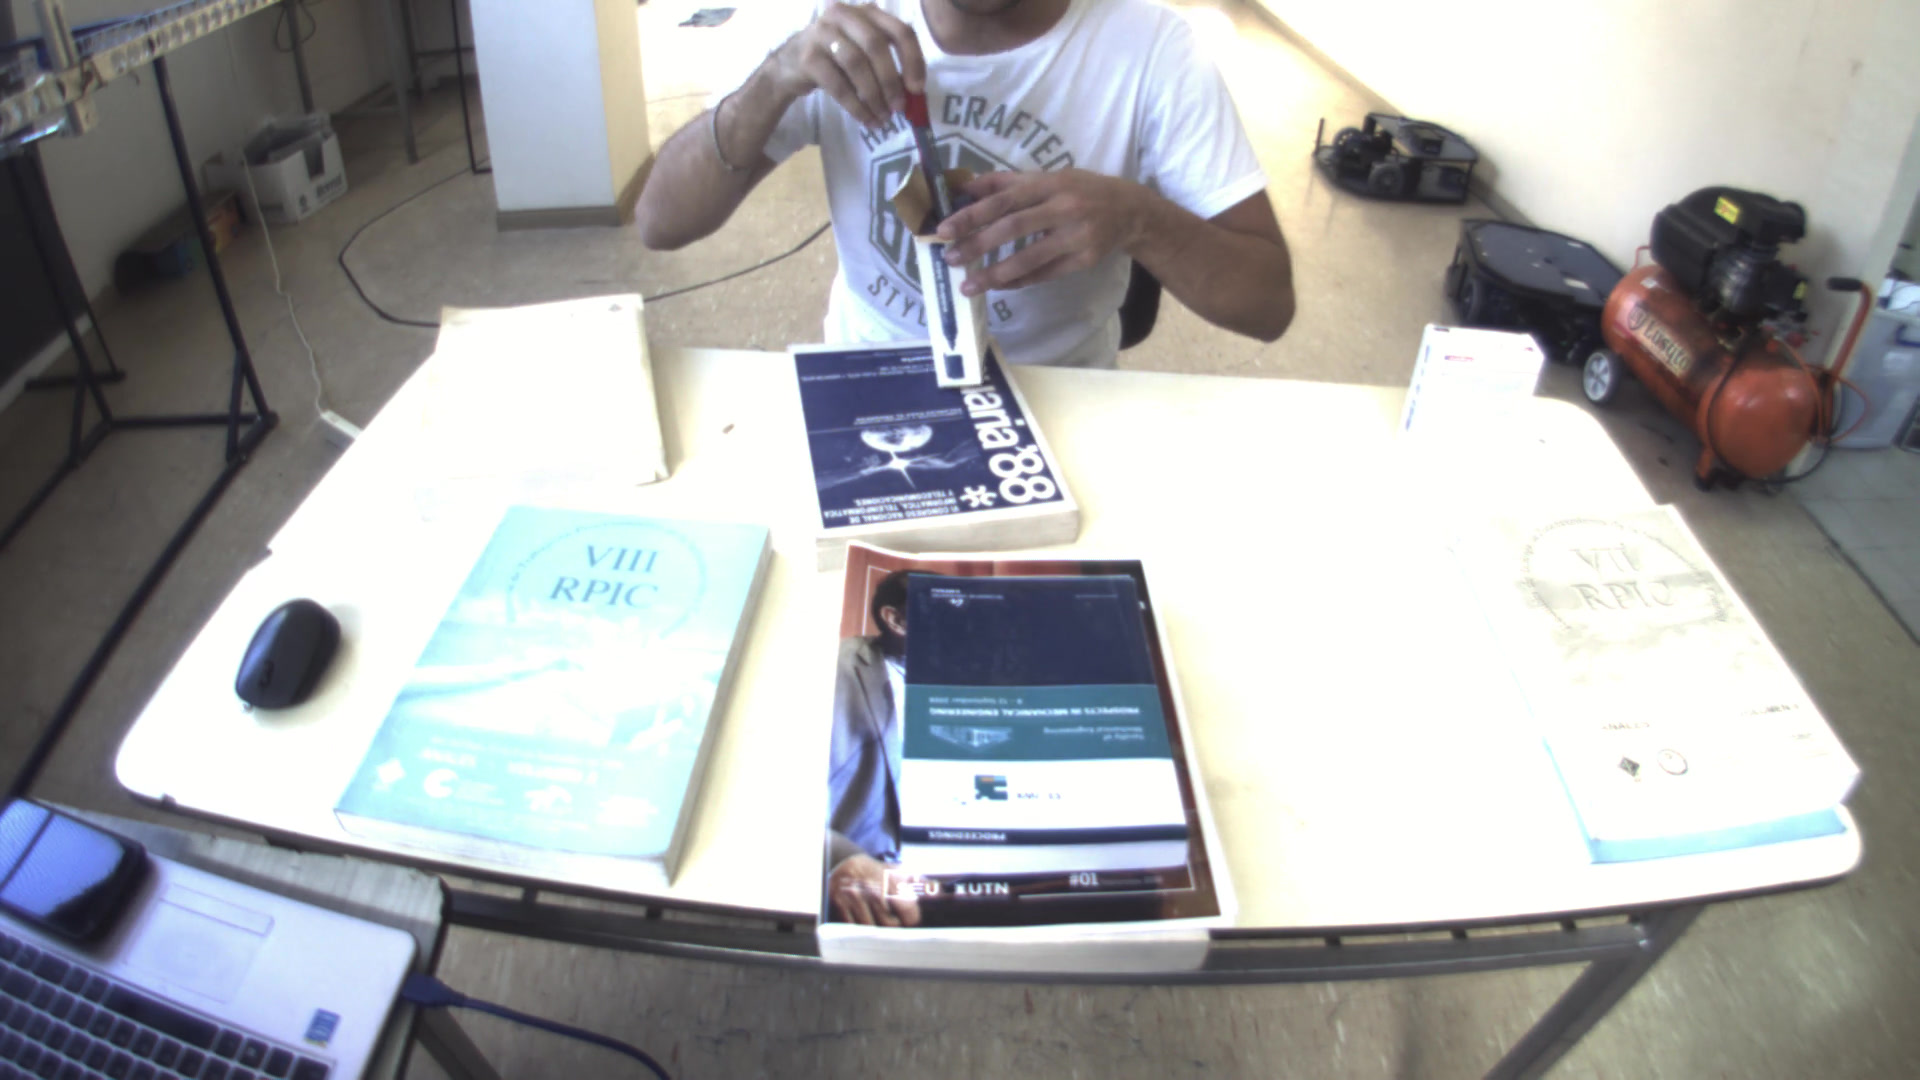hand: (915, 152, 1146, 287), (787, 1, 931, 135)
